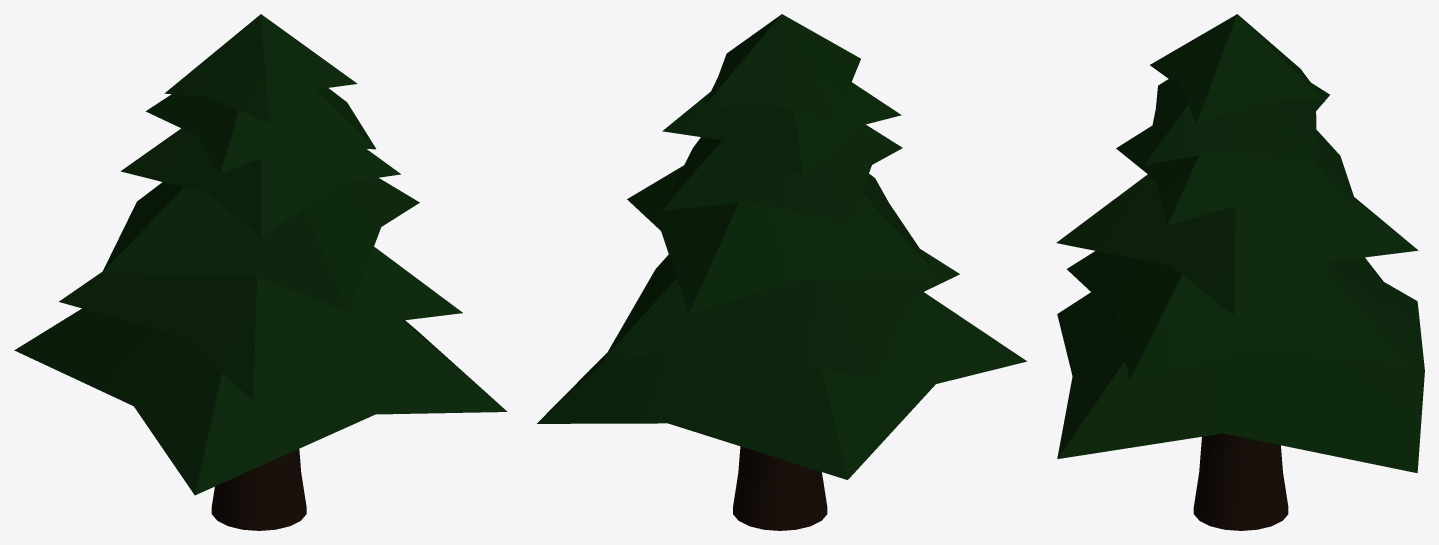
File: Tree2.FBX
3 views of the same model, side by side, from view 1: azimuth 30°, elevation 25°; view 2: azimuth 150°, elevation 25°; view 3: azimuth 270°, elevation 25° (orthographic).
Visible parts, largest first — view 1: Pyramid001, Pyramid002, Pyramid003, Pyramid004, Pyramid005, Pyramid006, Cylinder001; view 2: Pyramid001, Pyramid002, Pyramid003, Pyramid004, Pyramid006, Pyramid005, Cylinder001; view 3: Pyramid001, Pyramid002, Pyramid003, Pyramid004, Pyramid006, Pyramid005, Cylinder001.
Boxes of the visible parts, x1,y1,x2,y2 form: Pyramid001: (14, 308, 507, 495); Pyramid002: (59, 247, 462, 400); Pyramid003: (102, 177, 419, 311); Pyramid004: (120, 128, 400, 237); Pyramid005: (145, 88, 375, 173); Pyramid006: (164, 14, 357, 123); Cylinder001: (211, 449, 306, 530); Pyramid001: (537, 292, 1027, 479); Pyramid002: (604, 249, 959, 378); Pyramid003: (627, 165, 936, 313); Pyramid004: (661, 124, 902, 221); Pyramid006: (703, 14, 860, 122); Pyramid005: (662, 82, 901, 178); Cylinder001: (733, 446, 827, 530); Pyramid001: (1057, 282, 1424, 473); Pyramid002: (1067, 251, 1408, 380); Pyramid003: (1056, 174, 1418, 315); Pyramid004: (1116, 126, 1358, 225); Pyramid006: (1150, 14, 1324, 124); Pyramid005: (1144, 79, 1329, 165); Cylinder001: (1193, 433, 1288, 530).
Bounding box in the file's own units: 30.2 × 45.62 × 30.71.
